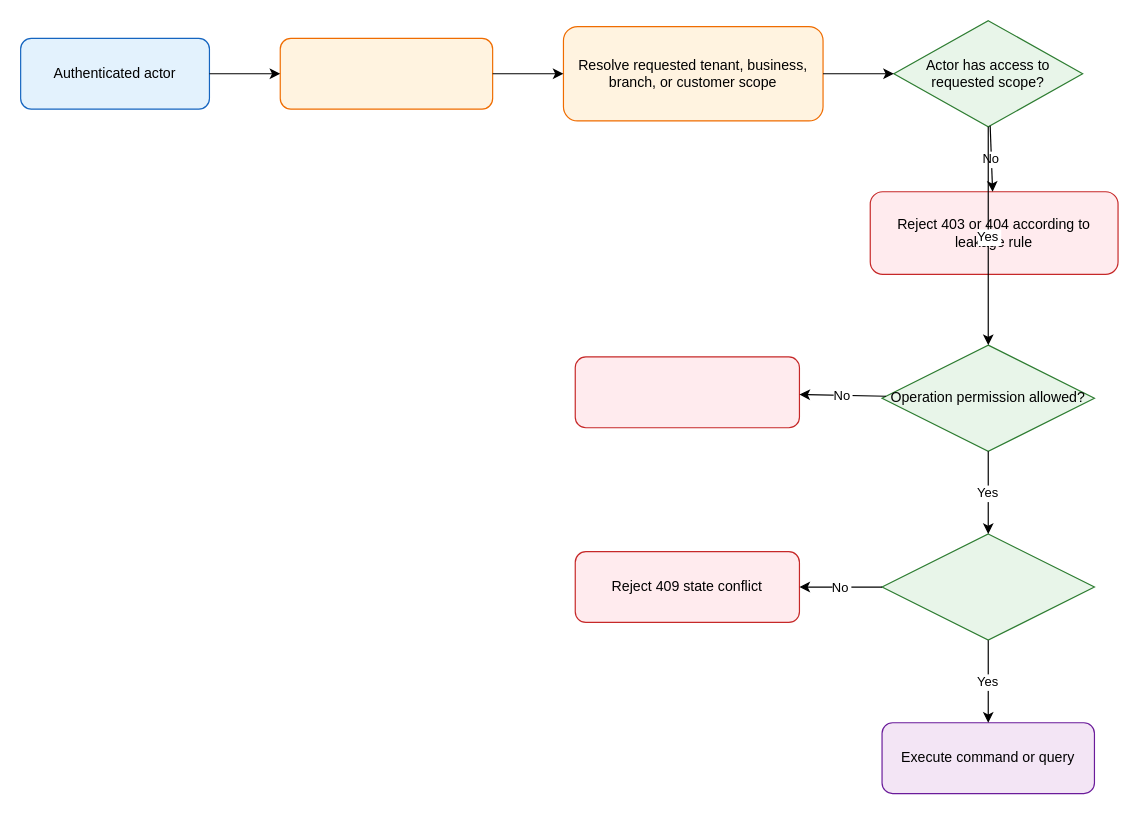
This 1139x814 diagram has some shape labels left out. Here are the shapes that lost their labels. From the top down, the centre of each, then its label:
At point (386, 73): "Resolve session and roles".
At point (686, 392): "Reject 403 permission denied".
At point (987, 586): "Resource state allows action?".
